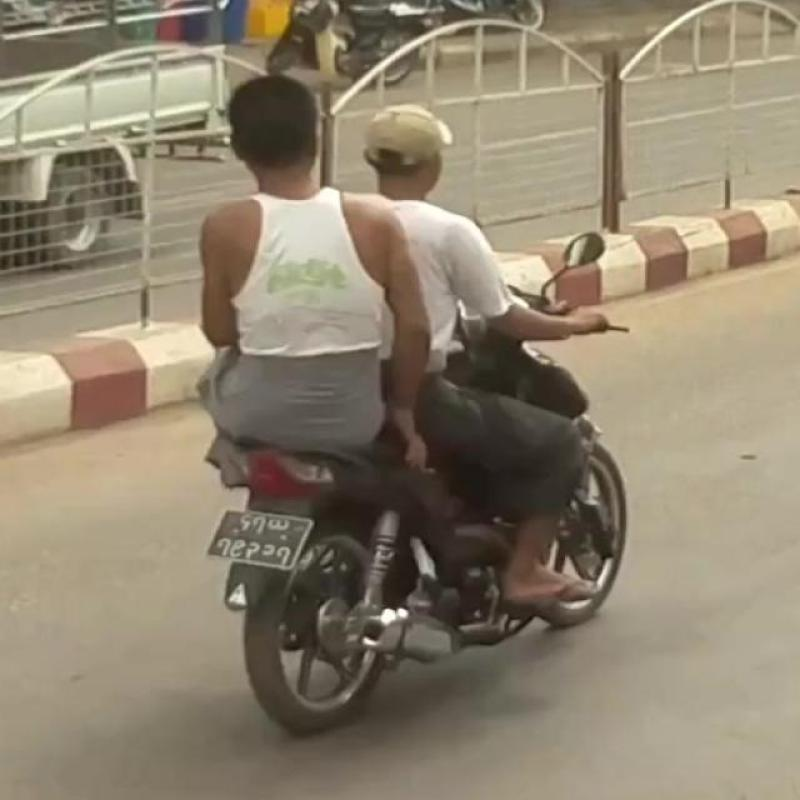nohelmet: (196, 65, 354, 206), (370, 80, 478, 216)
